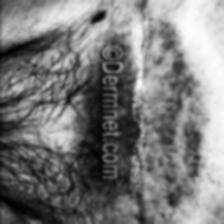Toxin: (121, 4, 209, 224)
